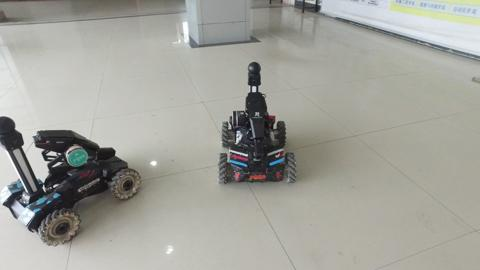chariot: (1, 91, 146, 251), (207, 58, 298, 193)
